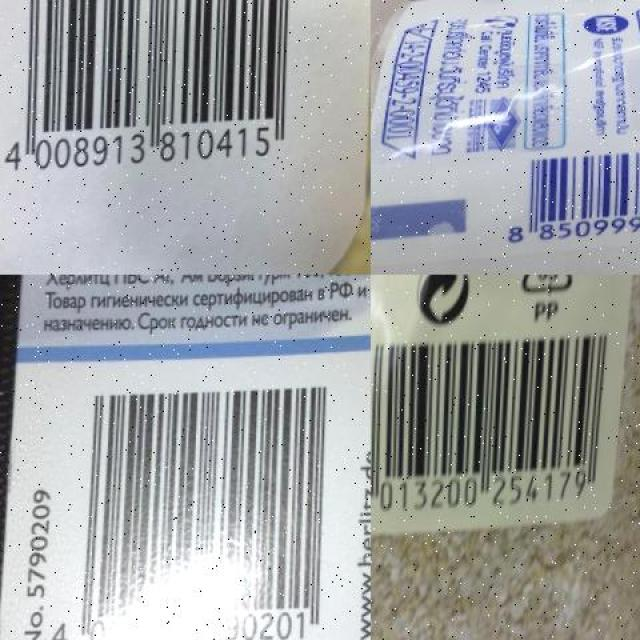Barcode: (49, 365, 350, 640), (0, 0, 316, 200), (371, 326, 618, 526), (501, 142, 640, 250)
